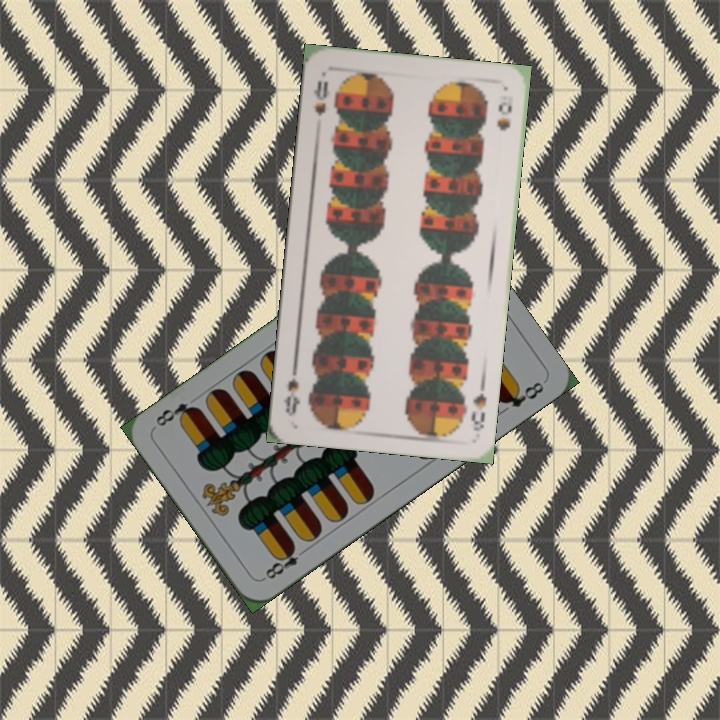E8: (258, 541, 310, 583)
S8: (467, 377, 489, 434), (310, 76, 332, 118)
